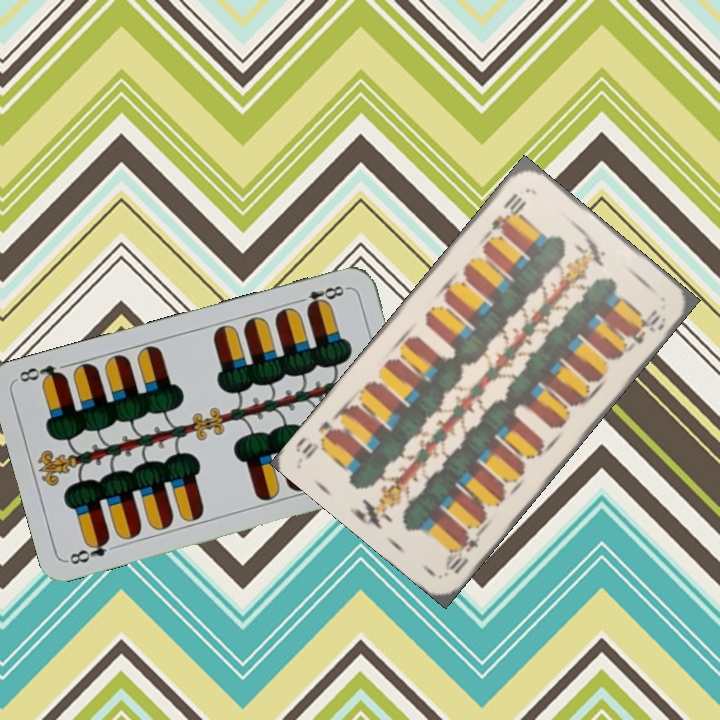E10: (441, 526, 485, 577), (487, 188, 529, 235)
E8: (64, 533, 122, 567), (292, 281, 351, 313)
